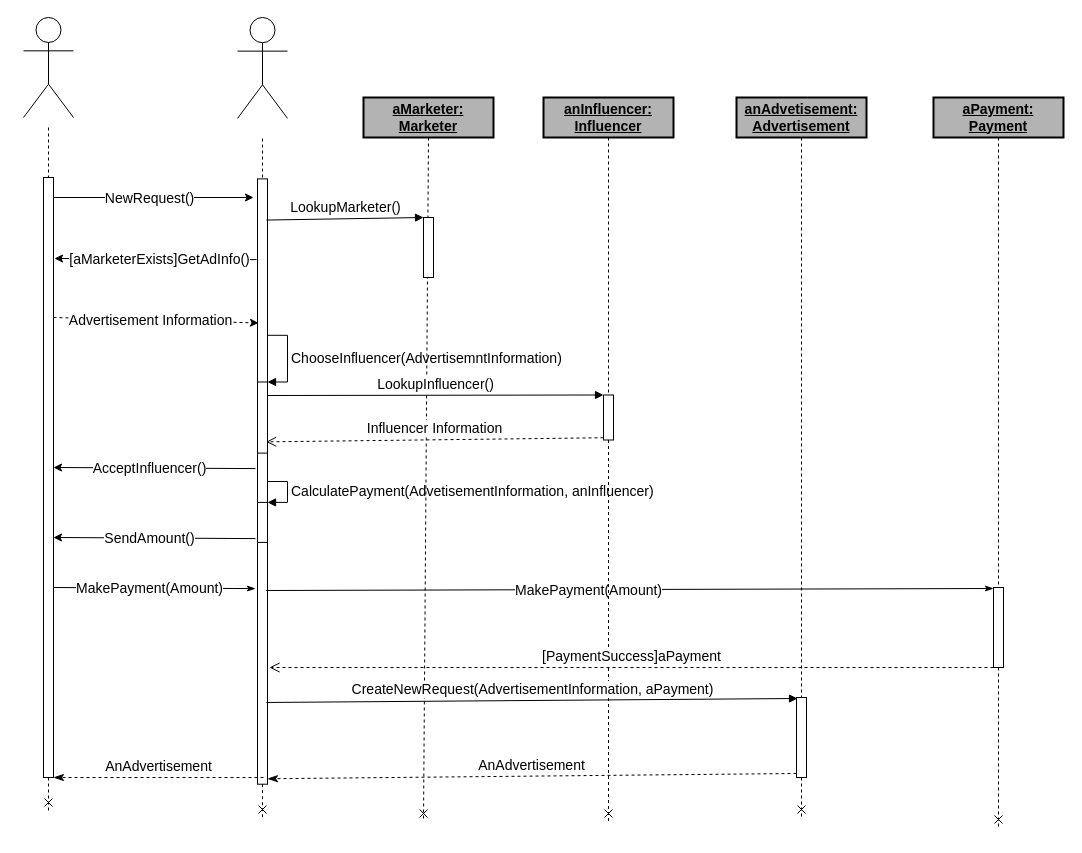
Some shapes in this 1082 by 853 pixel diagram are drawn without their labels. The shapes that lost their labels are listed below. From the top down, each one's centre as x and y in pixels, then its label:
At (x=48, y=67): "aMarketer".
At (x=262, y=67): "Request Management System".
